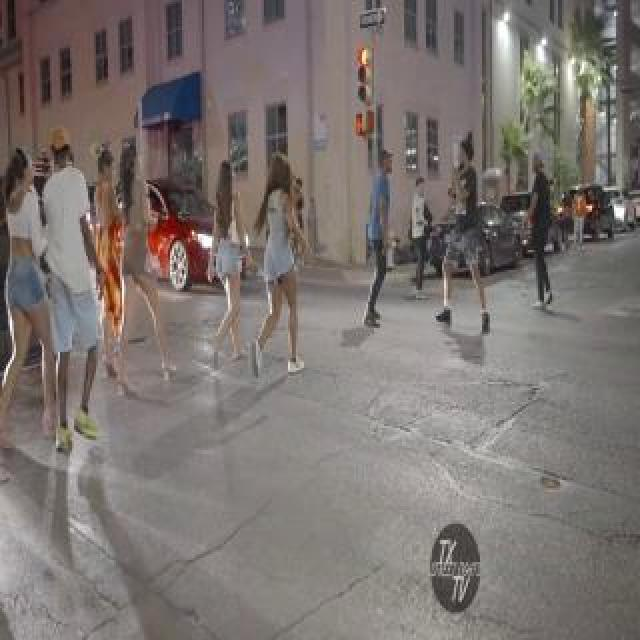fight: (0, 111, 180, 455), (197, 138, 317, 408), (360, 125, 494, 349)
